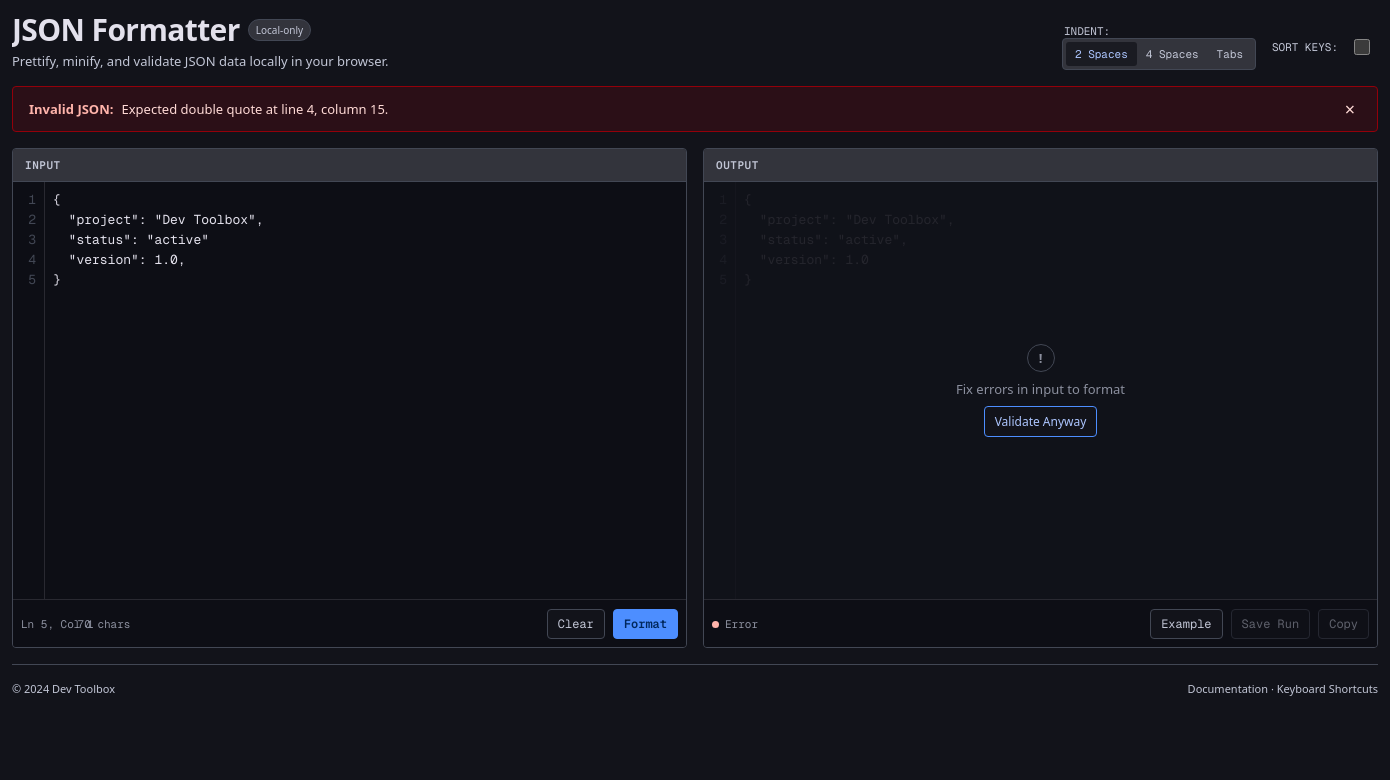
Test case: JSON Formatter - Level 1 core/common › shows a clear error for empty input
What coordinates should you click on to do the following:
click the button "Format"
I would click on:
 (645, 624)
Its box is [613,608,678,638].
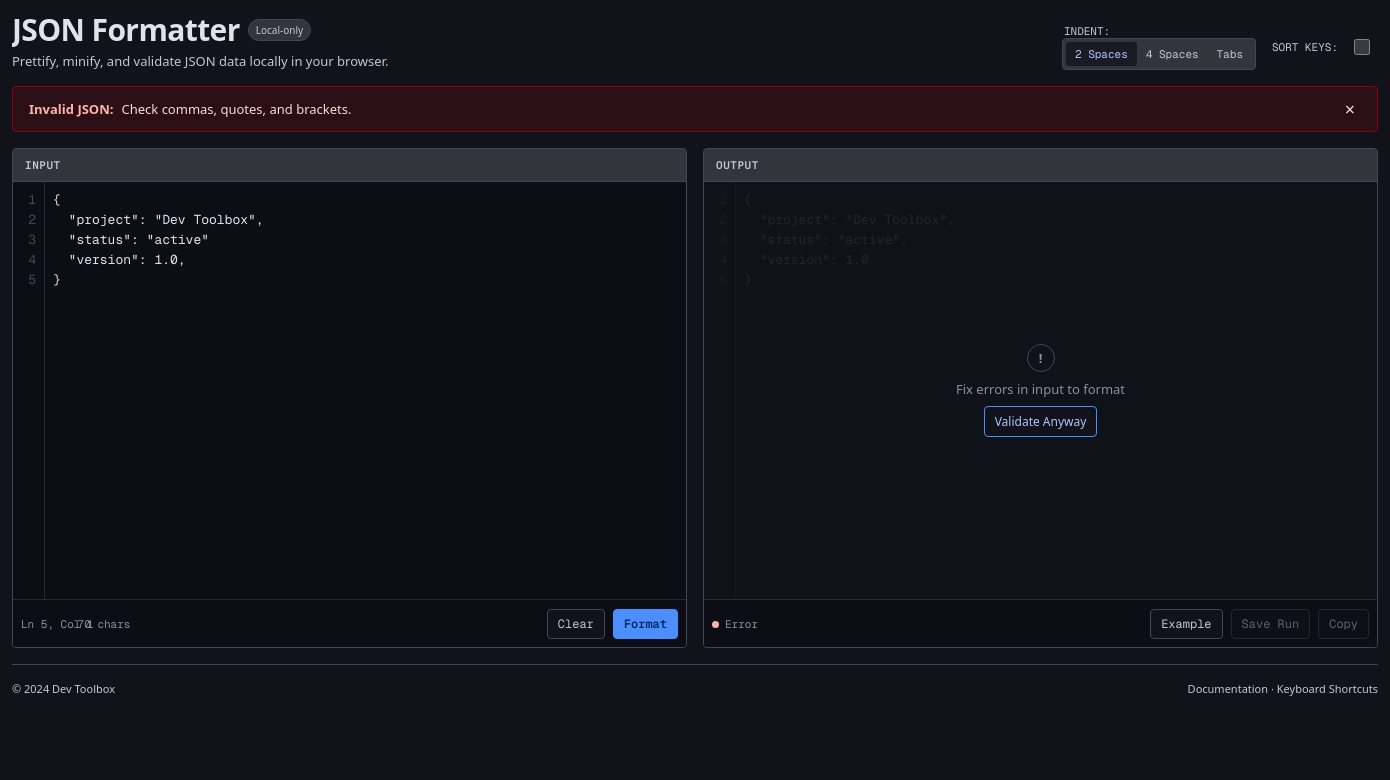
Expected: the message shows "Invalid JSON:", [29,100,114,118]
Expected: the message shows "Check commas, quotes, and brackets.", [122,100,352,118]
